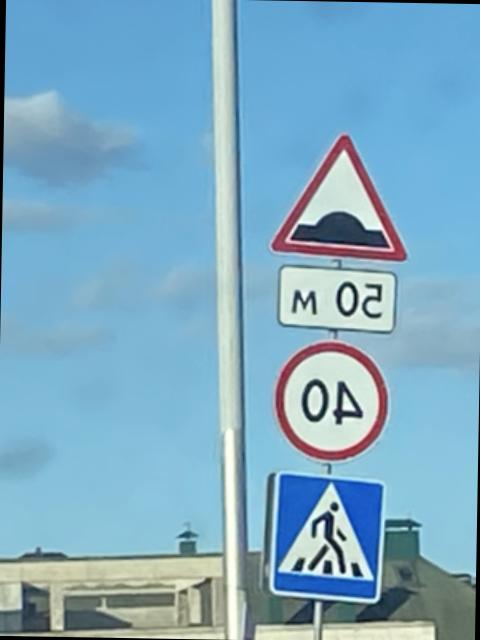crosswalk-sign: (267, 471, 390, 605)
